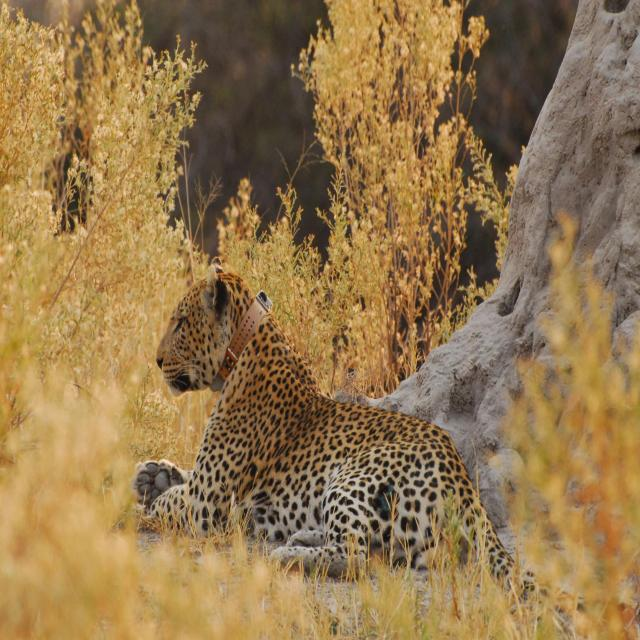Leopard: (120, 252, 640, 634)
